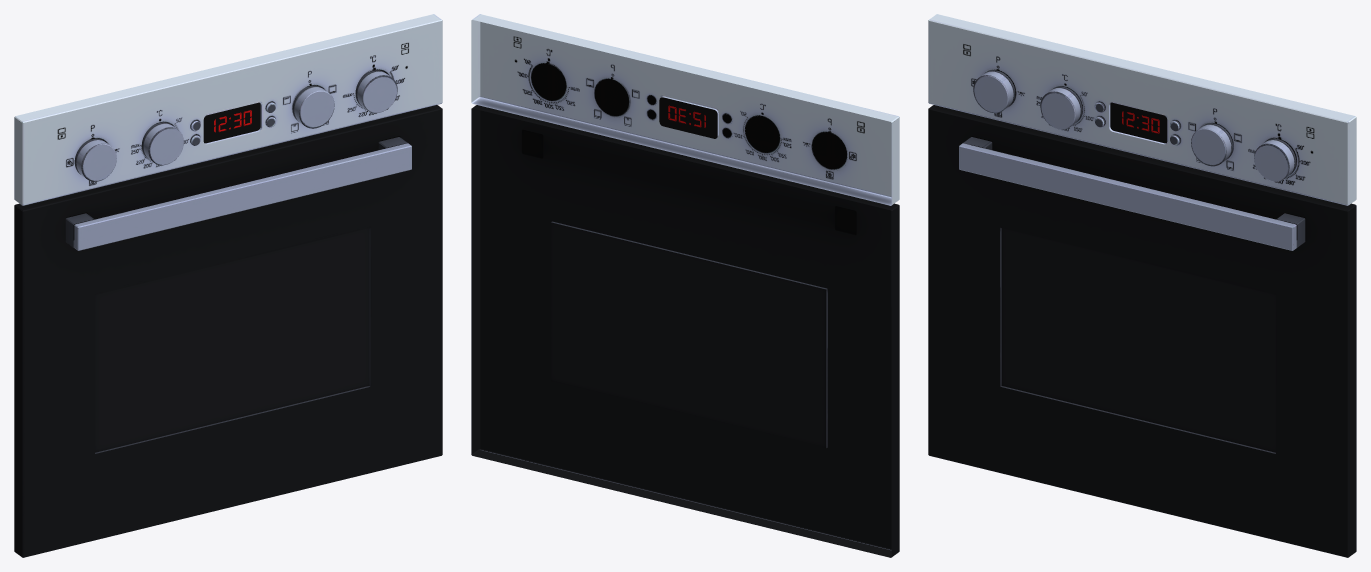
File: geo_oven_Hisense.fbx
3 views of the same model, side by side, from view 1: azimuth 30°, elevation 25°; view 2: azimuth 150°, elevation 25°; view 3: azimuth 330°, elevation 25° (orthographic).
Parts seen in each view (by area): view 1: geo_oven_Hisense_LOD0; view 2: geo_oven_Hisense_LOD0; view 3: geo_oven_Hisense_LOD0.
Part boxes in pixels (<box>): geo_oven_Hisense_LOD0: <box>14,14,442,557</box>; geo_oven_Hisense_LOD0: <box>471,14,899,557</box>; geo_oven_Hisense_LOD0: <box>928,14,1356,557</box>.
Bounding box in the file's own units: 0.5976 × 0.5923 × 0.0508.
